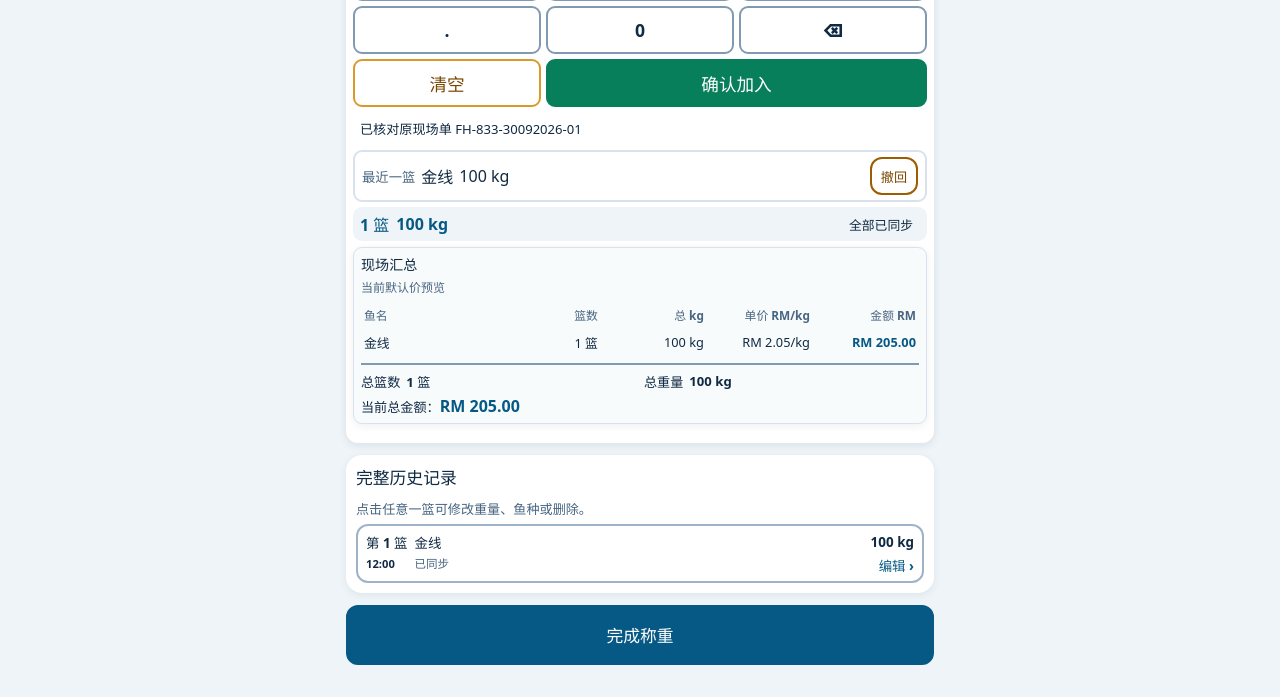
Scenario: 鱼头称重中任意篮编辑 › 编辑 legacy 价格篮保留原单号及 before 审计事实，但新版本不保存采购价格快照
(page scrolled)
Click the button "第 1 篮 金线 100 kg 12:00 已同步 编辑 ›" at (387, 543), box [356,524,924,583]
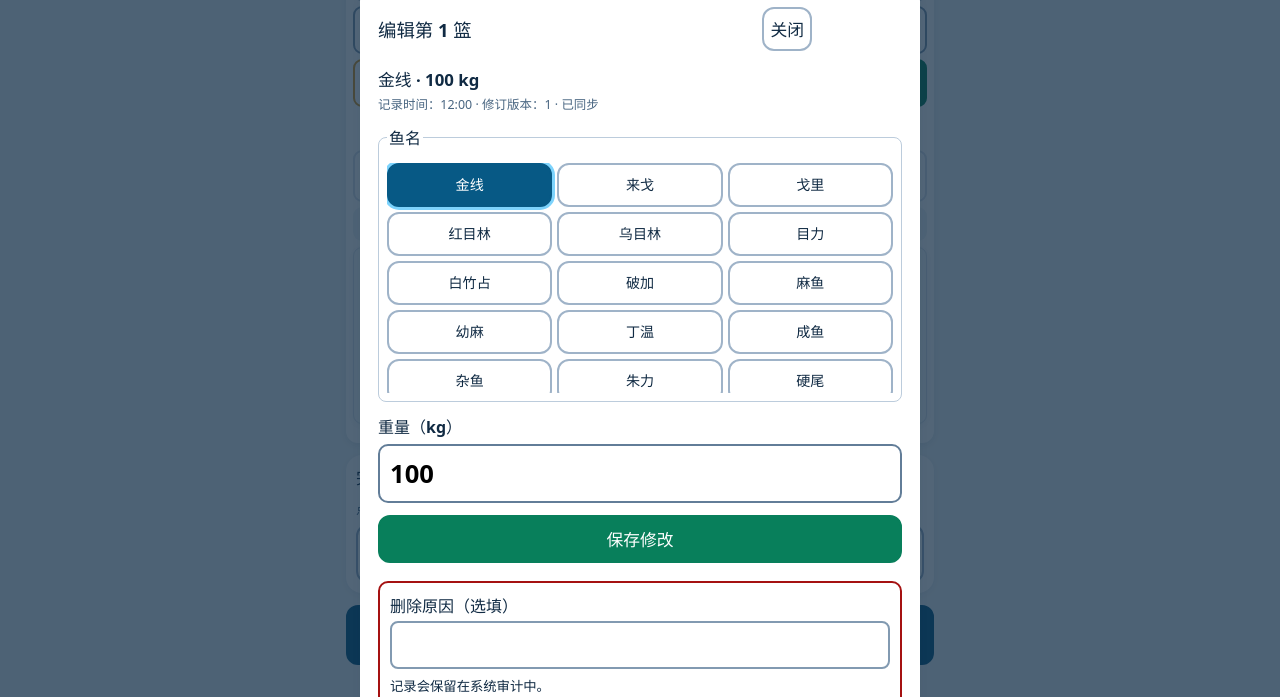
Expected: the element named "现场金额总计" shows "RM 205.00", [440,395,520,417]
Click the button "来戈" at (640, 185), box [557,163,723,207]
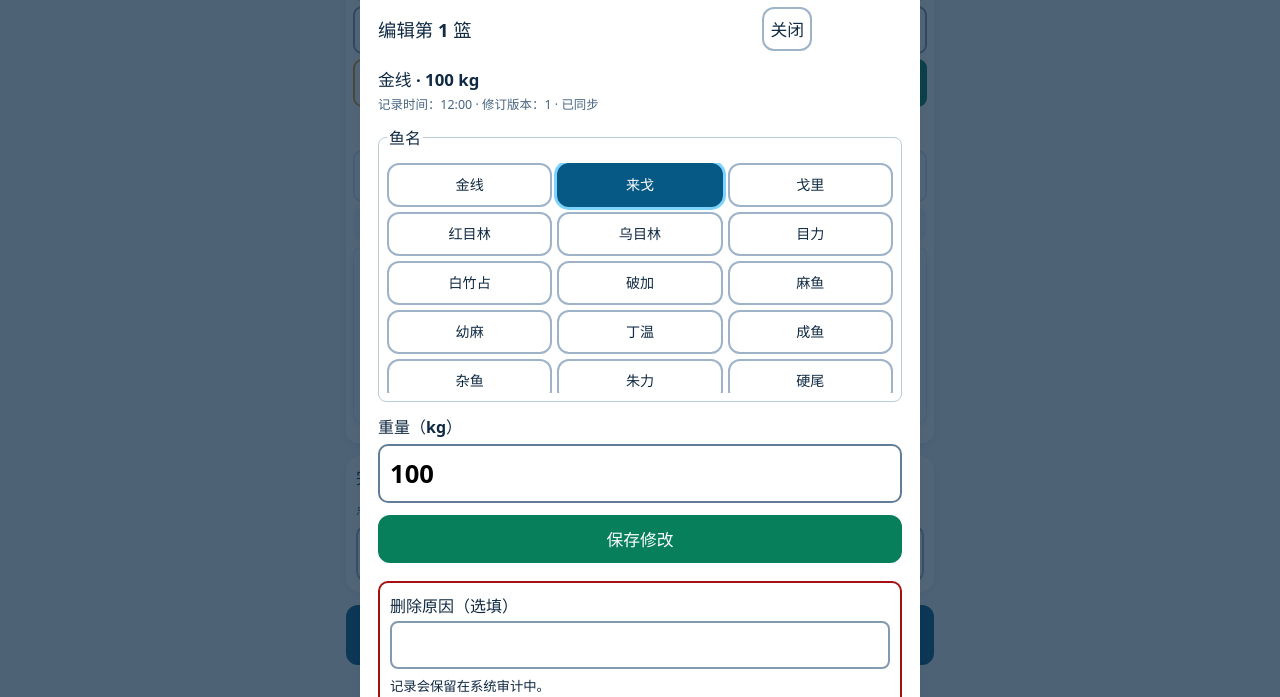
Replace the text in the field labelled "重量（kg）" with "80" at (640, 474), box [378,444,902,503]
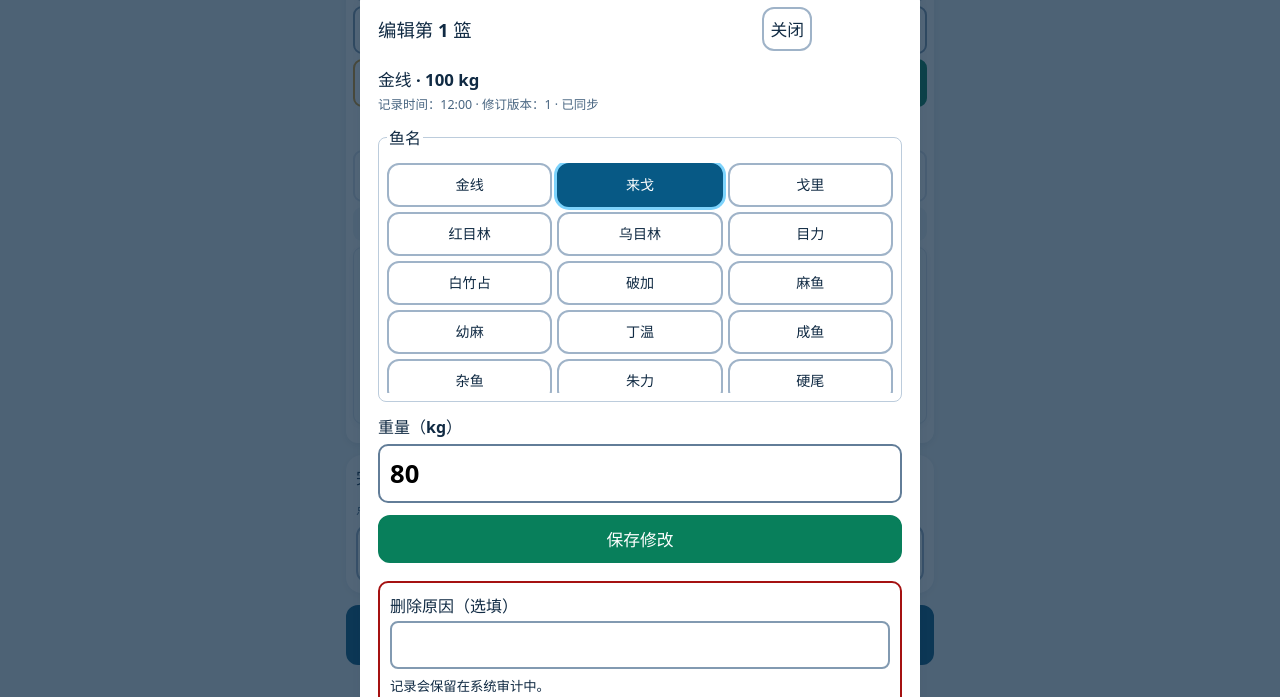
Click the button "保存修改" at (640, 539), box [378,515,902,563]
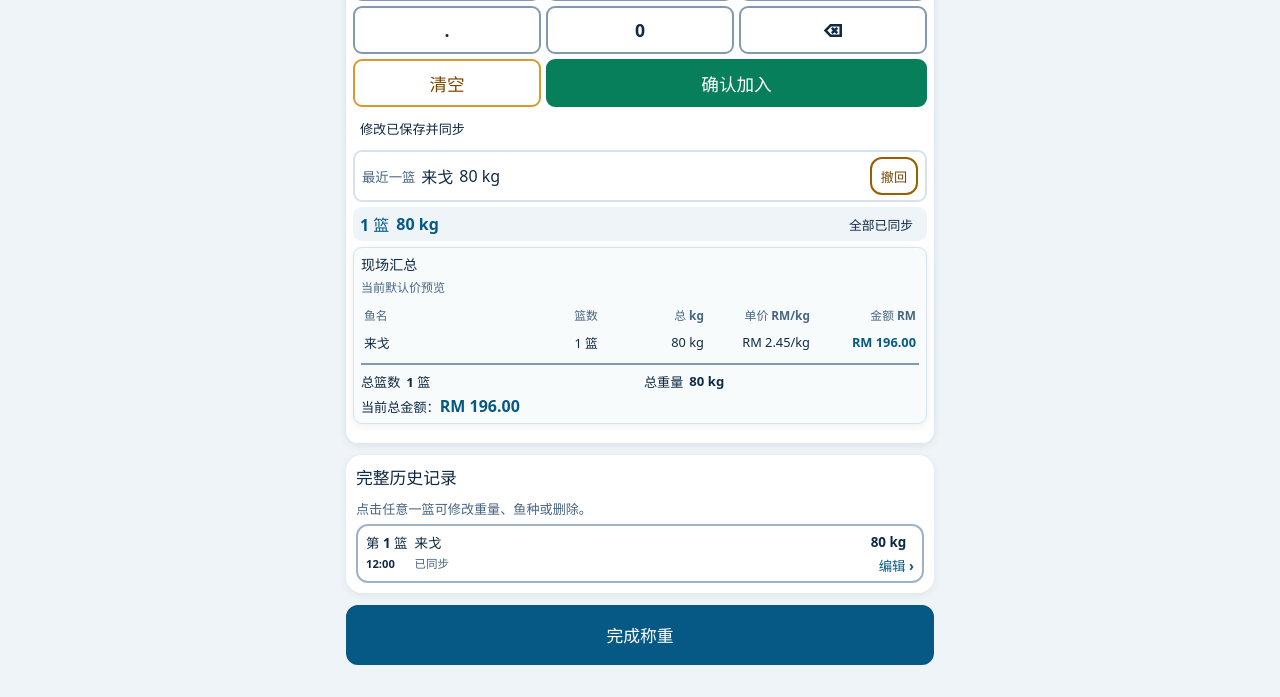
Result: the row "来戈" shows "RM 2.45/kg" at [742,333,810,351]
Result: the element named "现场金额总计" shows "RM 196.00" at [440,395,520,417]
